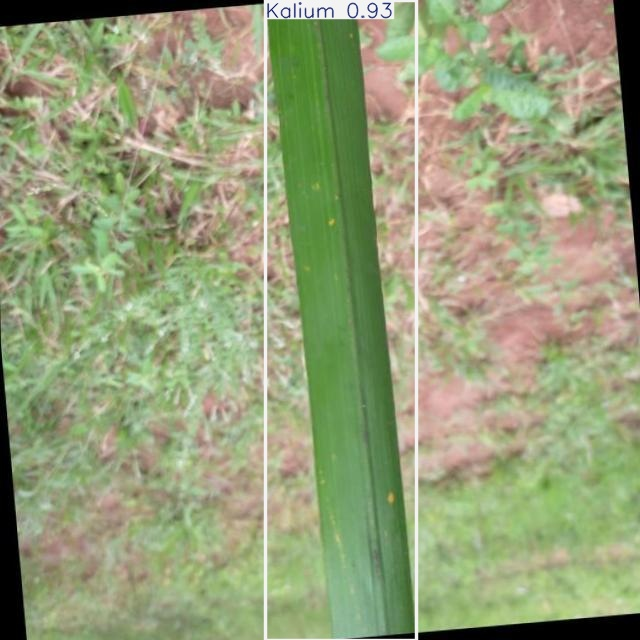Kalium: (265, 0, 416, 640)
